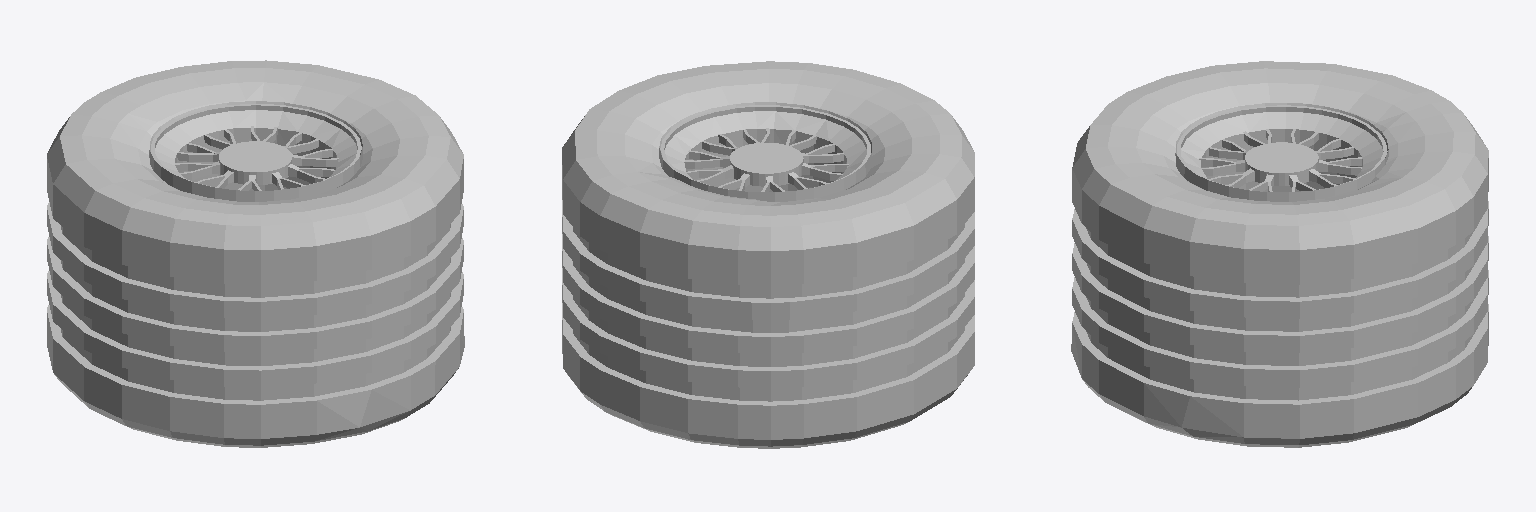
3 renders of one model, left to right at view 1: azimuth 30°, elevation 25°; view 2: azimuth 150°, elevation 25°; view 3: azimuth 270°, elevation 25°, orthographic.
Parts seen in each view (by area): view 1: Wheel_b_sx_Ferrari_wheel_back_R; view 2: Wheel_b_sx_Ferrari_wheel_back_R; view 3: Wheel_b_sx_Ferrari_wheel_back_R.
Boxes of the visible parts, box(x1,y1,x2,y2) form: Wheel_b_sx_Ferrari_wheel_back_R: box(47, 60, 464, 447); Wheel_b_sx_Ferrari_wheel_back_R: box(562, 61, 974, 448); Wheel_b_sx_Ferrari_wheel_back_R: box(1071, 61, 1488, 447).
Bounding box in the file's own units: 3.61 × 2.19 × 3.61.